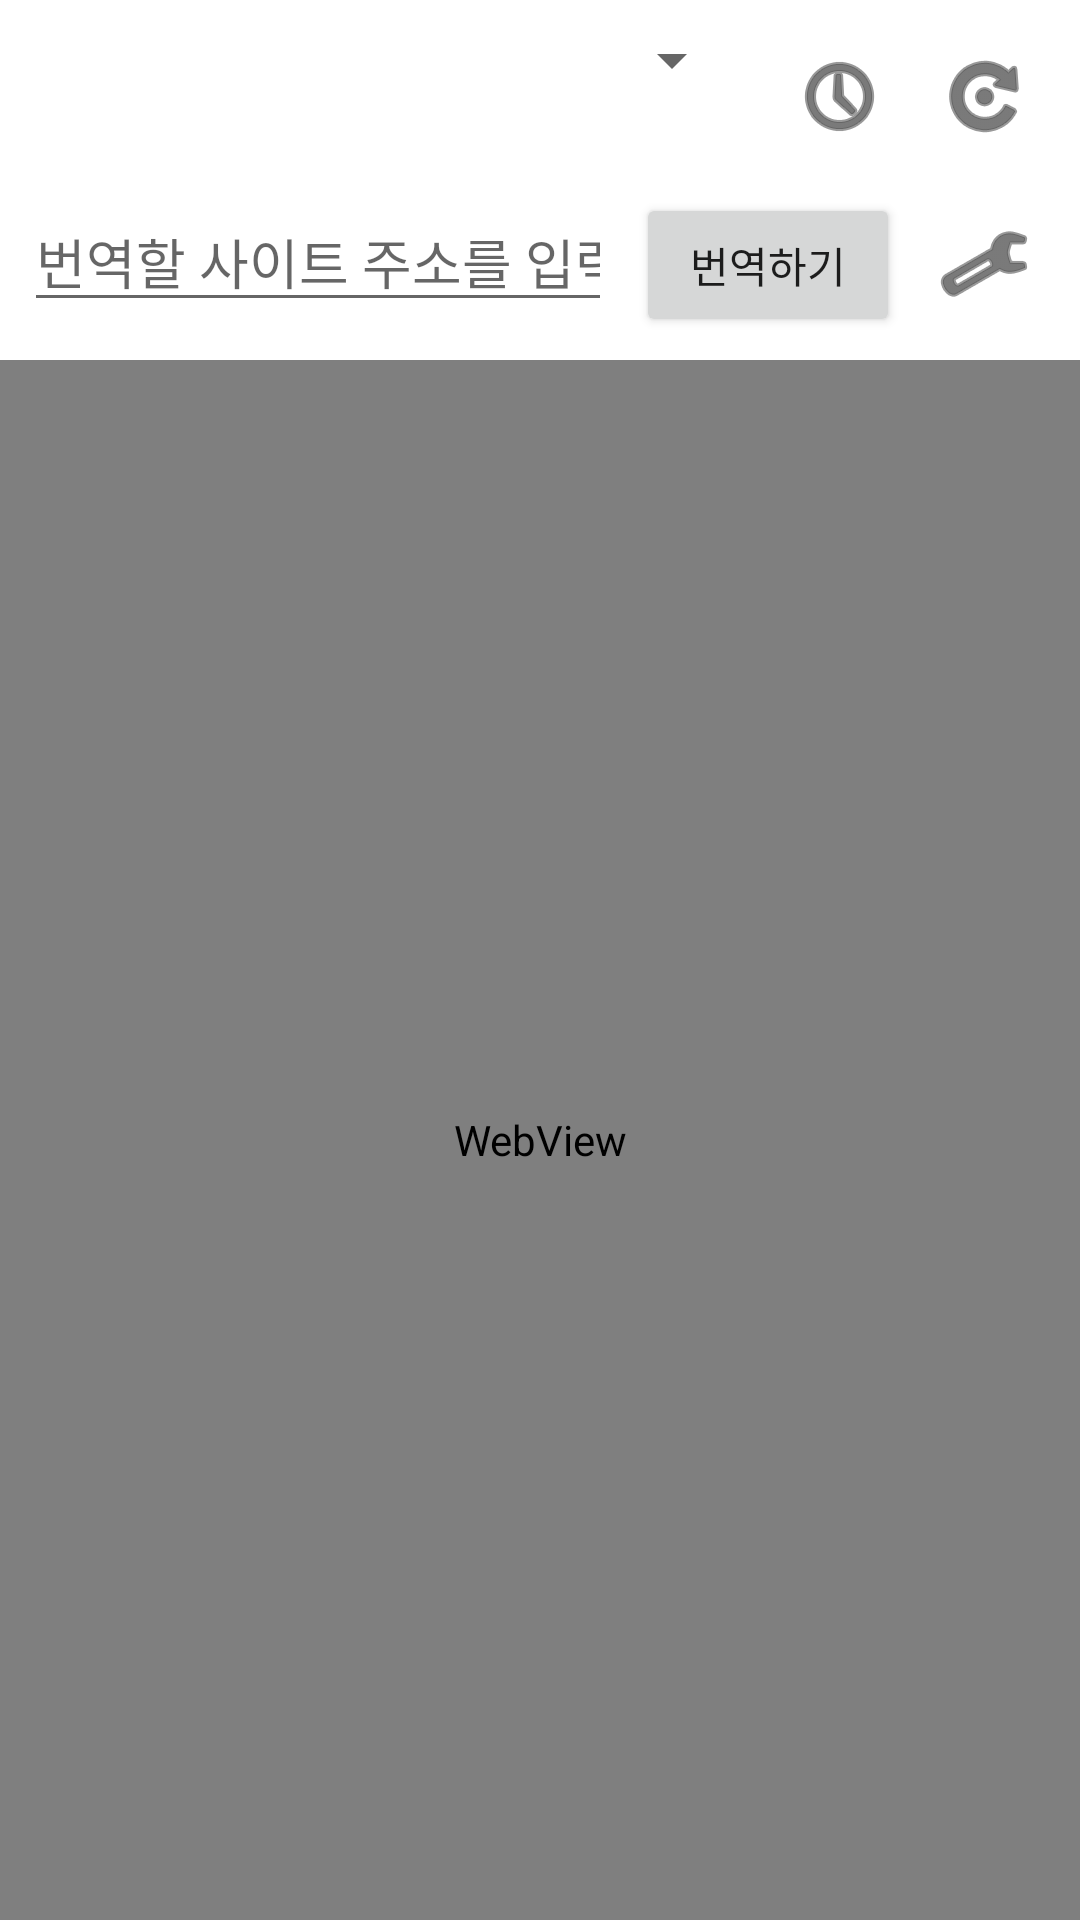

Icons on this 1080*1920 Android screen, each with the point to tap as (x,y):
기록: (839,96)
설정: (984,264)
업데이트: (984,96)
